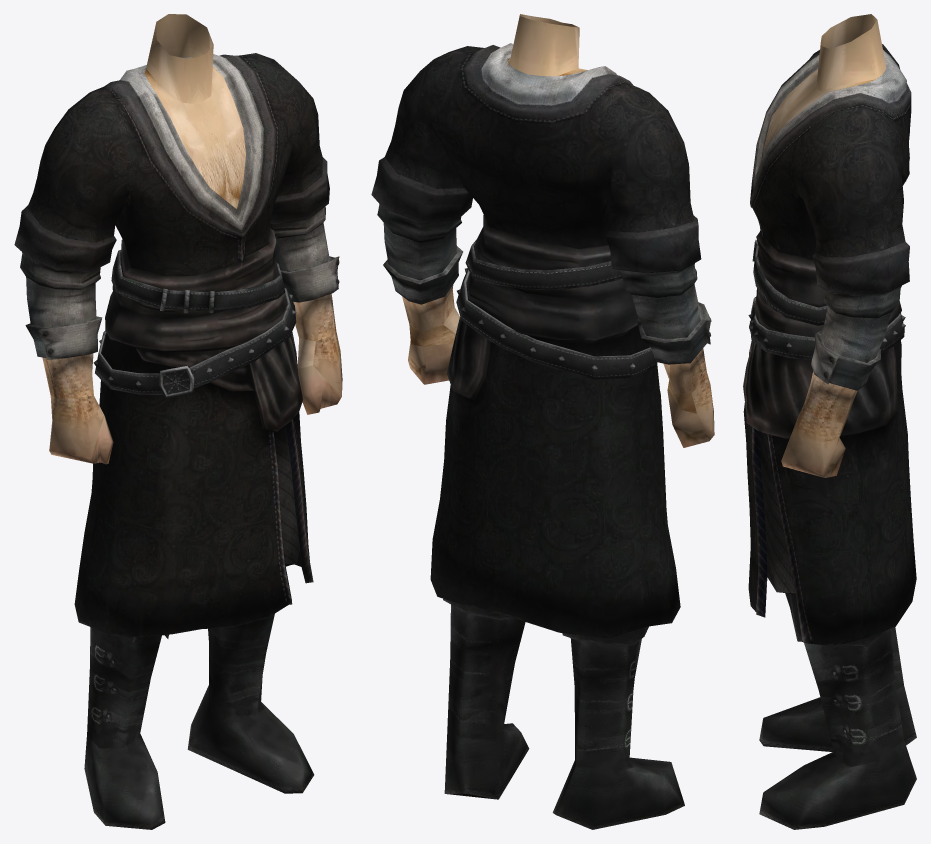
File: KOSA_KONTUSZ_BLACK.glb
3 renders of one model, left to right at view 1: azimuth 30°, elevation 25°; view 2: azimuth 150°, elevation 25°; view 3: azimuth 270°, elevation 25°, orthographic. The views are drawn at different scales.
Visible parts, largest first — view 1: KOSA_KONTUSZ_BLACK; view 2: KOSA_KONTUSZ_BLACK; view 3: KOSA_KONTUSZ_BLACK.
Part boxes in pixels (x1,y1,x2,y2): KOSA_KONTUSZ_BLACK: (14,14,342,829); KOSA_KONTUSZ_BLACK: (371,14,714,829); KOSA_KONTUSZ_BLACK: (743,14,916,829).
Size of the model in its own units: 0.7081 by 1.69 by 0.3516.
2 materials, 2 textured.
